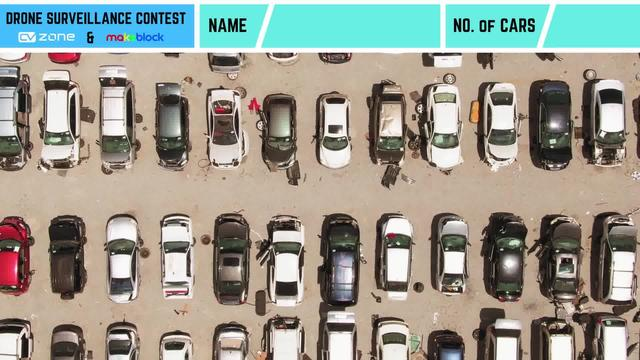car: (41, 68, 82, 172), (97, 66, 138, 170), (597, 213, 639, 306), (541, 217, 583, 302), (267, 216, 306, 306), (213, 214, 250, 306), (422, 84, 462, 169), (487, 218, 527, 302), (324, 216, 360, 307), (537, 81, 573, 171), (590, 79, 626, 169), (377, 214, 413, 300), (155, 83, 190, 171), (208, 88, 246, 169), (1, 68, 31, 170), (106, 215, 139, 303), (483, 82, 517, 167), (51, 215, 85, 300), (370, 85, 405, 165), (435, 216, 469, 297), (160, 214, 192, 299), (317, 94, 352, 169), (262, 95, 296, 169), (1, 217, 31, 296), (592, 316, 631, 360), (324, 312, 357, 360), (373, 320, 412, 360)
